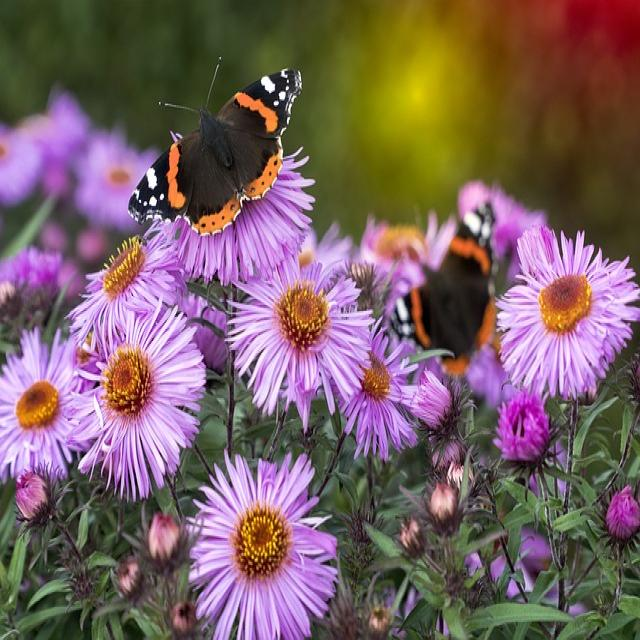butterfly: (130, 69, 301, 235)
